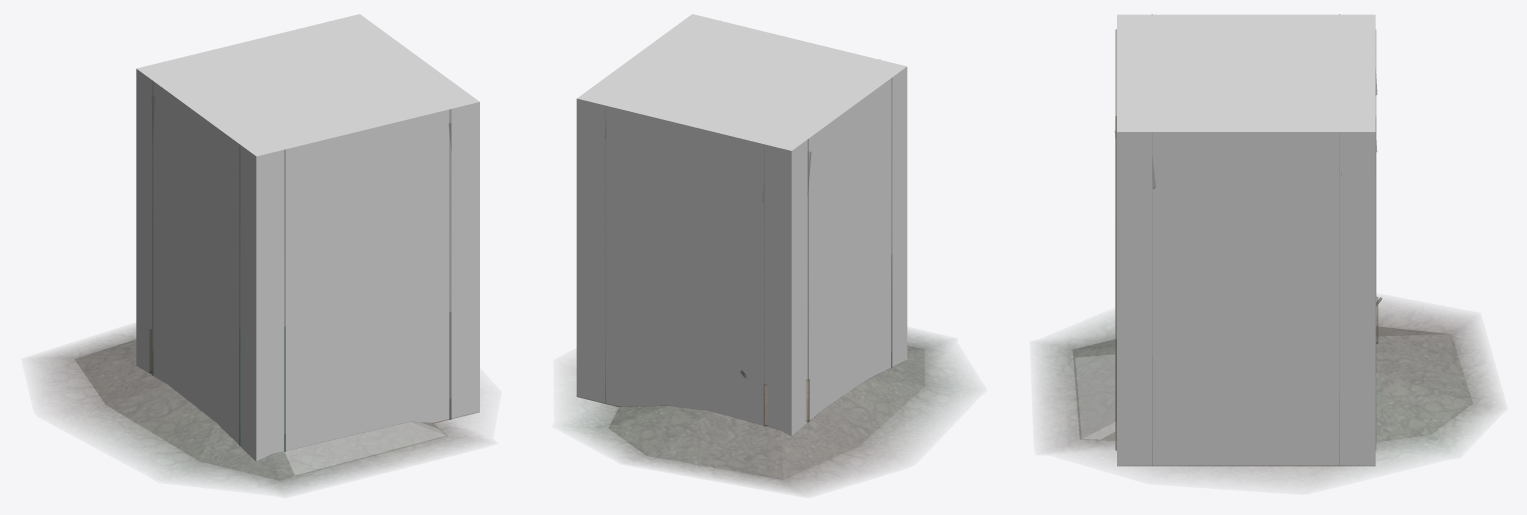
File: source.glb
3 views of the same model, side by side, from view 1: azimuth 30°, elevation 25°; view 2: azimuth 150°, elevation 25°; view 3: azimuth 270°, elevation 25° (orthographic). The views are drawn at different scales.
Visible parts, largest first — view 1: coll_m206_0, state1_coll_m206_0, state1_obj_efe960, state2_obj_f0b660, state1_coll_m10a_0, obj_ef7930, state1_obj_f01ce0; view 2: coll_m206_0, state1_obj_efe960, state2_obj_f0b660, state1_coll_m10a_0, state1_coll_m206_0, obj_ef7930; view 3: coll_m206_0, state1_coll_m206_0, state1_obj_efe960, state2_obj_f0b660, state1_coll_m10a_0, obj_ef7930.
Part boxes in pixels (bbox=[...]): coll_m206_0: bbox=[136, 14, 479, 461]; state1_coll_m206_0: bbox=[136, 69, 479, 461]; state1_obj_efe960: bbox=[49, 331, 466, 488]; state2_obj_f0b660: bbox=[57, 333, 466, 485]; state1_coll_m10a_0: bbox=[75, 339, 447, 480]; obj_ef7930: bbox=[152, 81, 451, 434]; state1_obj_f01ce0: bbox=[152, 313, 451, 451]; coll_m206_0: bbox=[576, 14, 907, 436]; state1_obj_efe960: bbox=[582, 336, 954, 488]; state2_obj_f0b660: bbox=[590, 339, 944, 485]; state1_coll_m10a_0: bbox=[608, 345, 924, 479]; state1_coll_m206_0: bbox=[791, 88, 907, 434]; obj_ef7930: bbox=[605, 78, 892, 422]; coll_m206_0: bbox=[1117, 14, 1375, 466]; state1_coll_m206_0: bbox=[1117, 132, 1375, 466]; state1_obj_efe960: bbox=[1052, 310, 1489, 469]; state2_obj_f0b660: bbox=[1057, 315, 1483, 450]; state1_coll_m10a_0: bbox=[1072, 326, 1472, 442]; obj_ef7930: bbox=[1115, 30, 1376, 449].
Size of the model in its own units: 401 by 297 by 381.
Materials: 15 (15 with a texture image).
